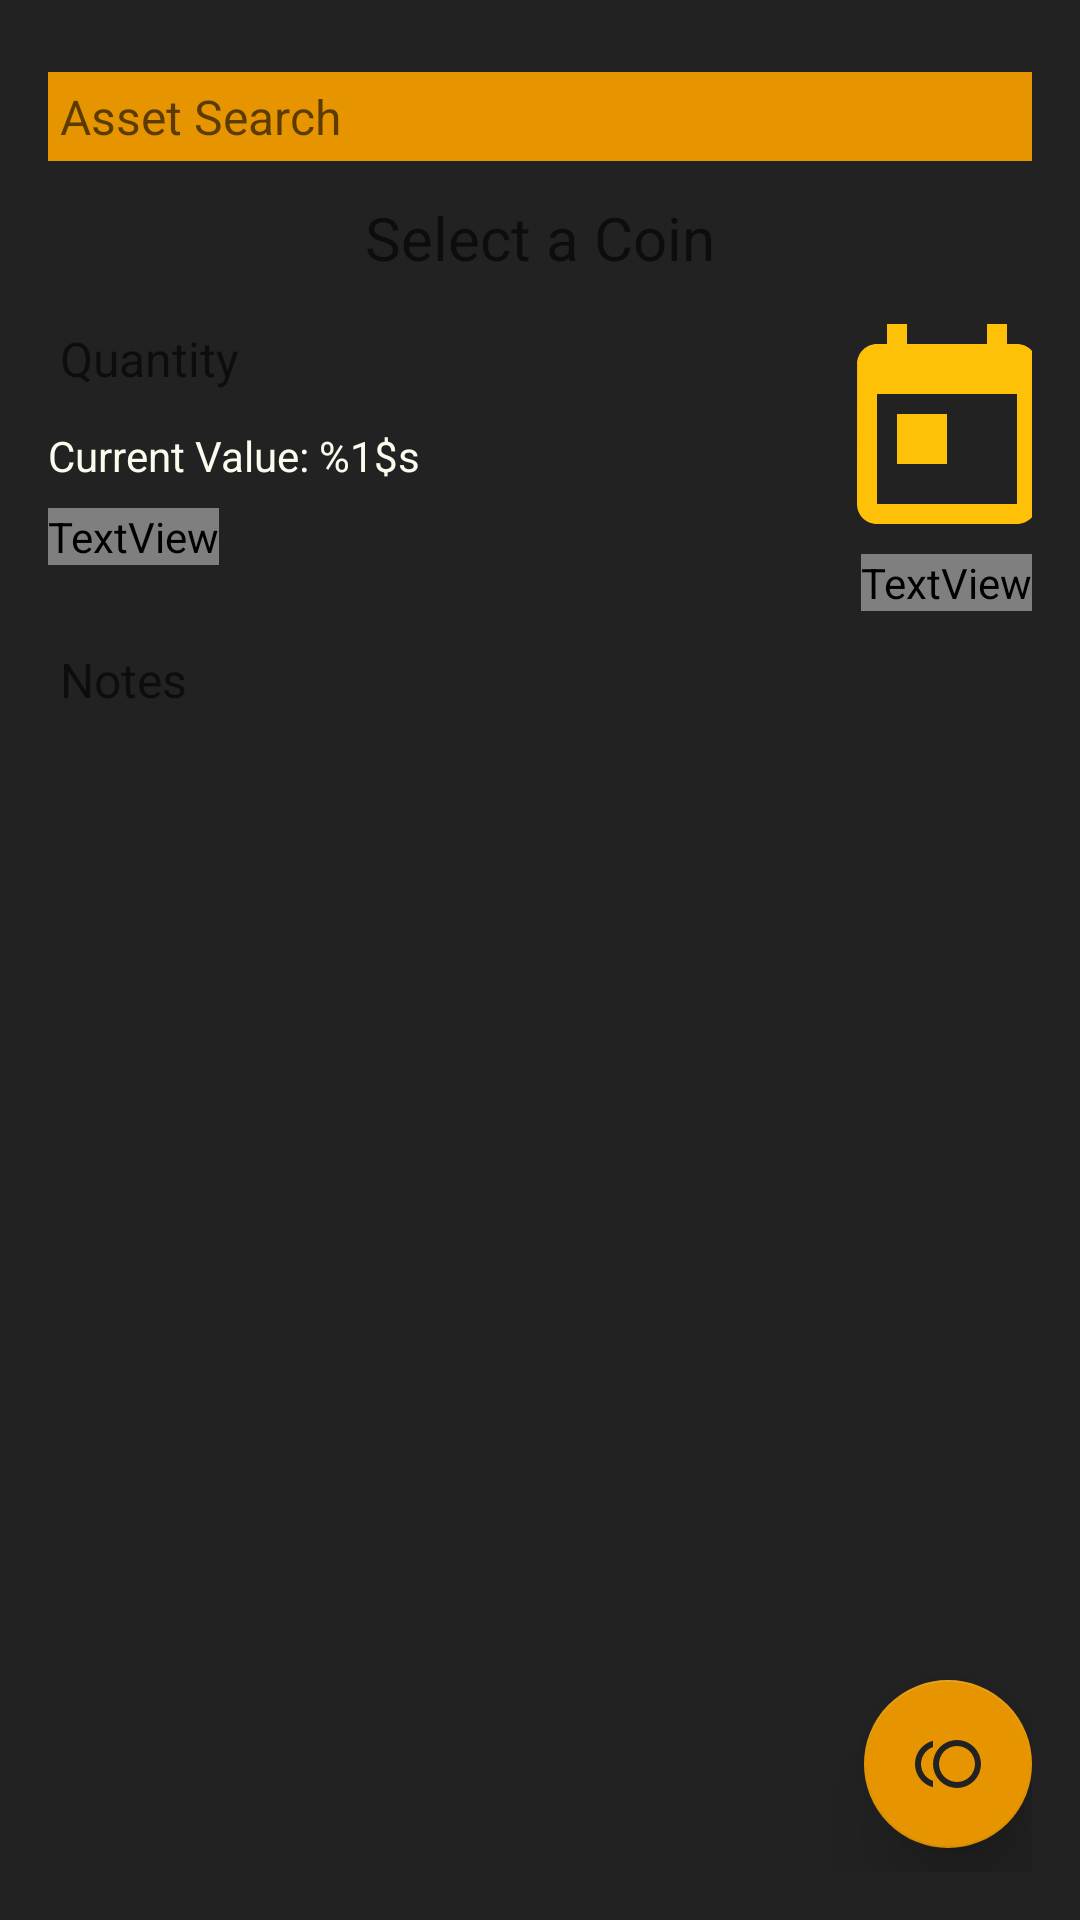

Where to tap for icons on this 1080px x 1920px app screen, as [x,y]:
coins: [948,1764]
Date selection button: [944,424]
